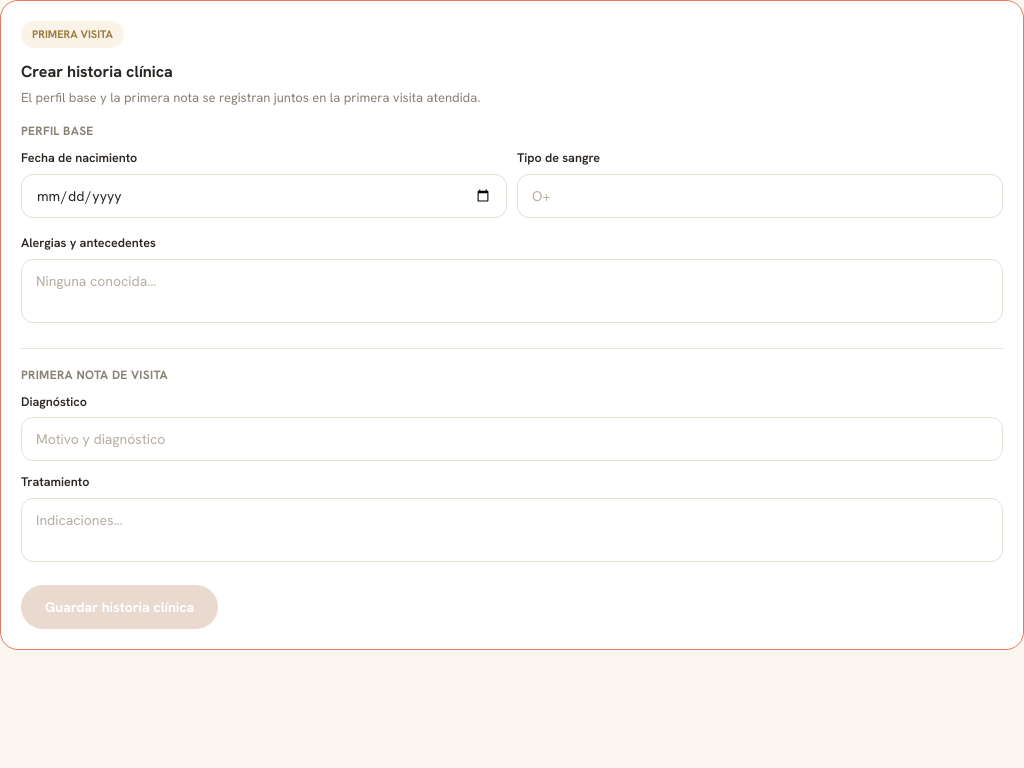
it: FirstVisitForm › disables submit until diagnosis and treatment are filled
Expected: the button "Guardar historia clínica" is disabled, [21,585,218,629]
Step 1. Type "Migraña tensional" into the field labelled "Diagnóstico" → [512, 439], box [21,417,1003,461]
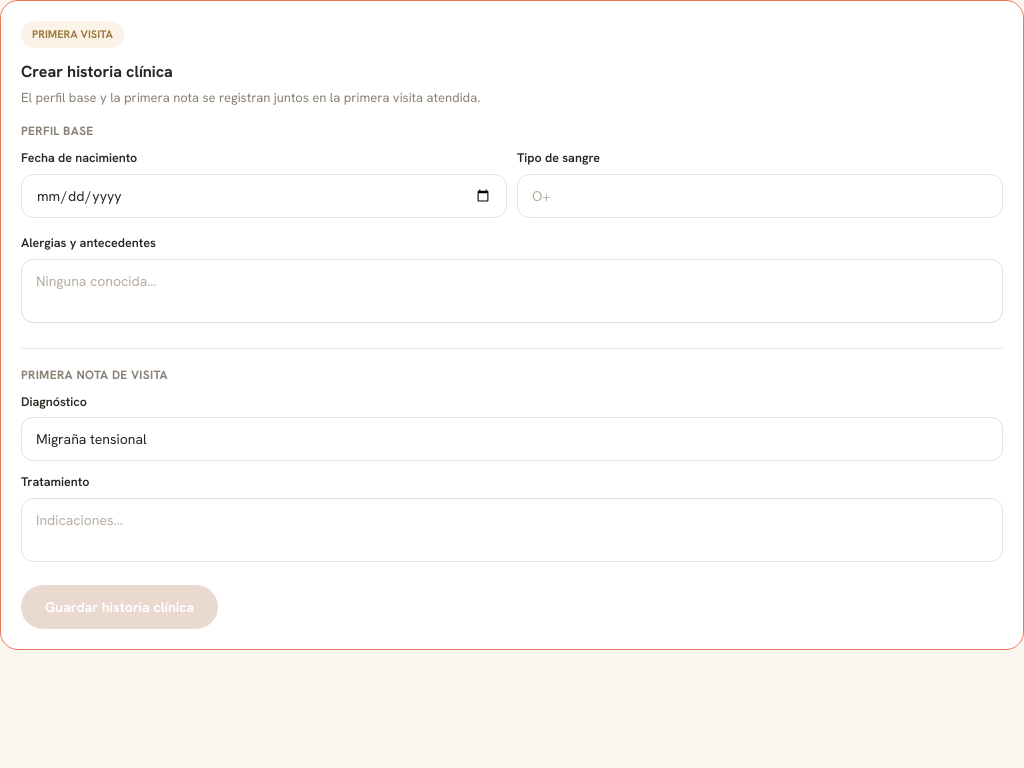
Expected: the button "Guardar historia clínica" is disabled, [21,585,218,629]
Step 2. Type "Reposo" into the text box labelled "Tratamiento" → [512, 530], box [21,498,1003,562]
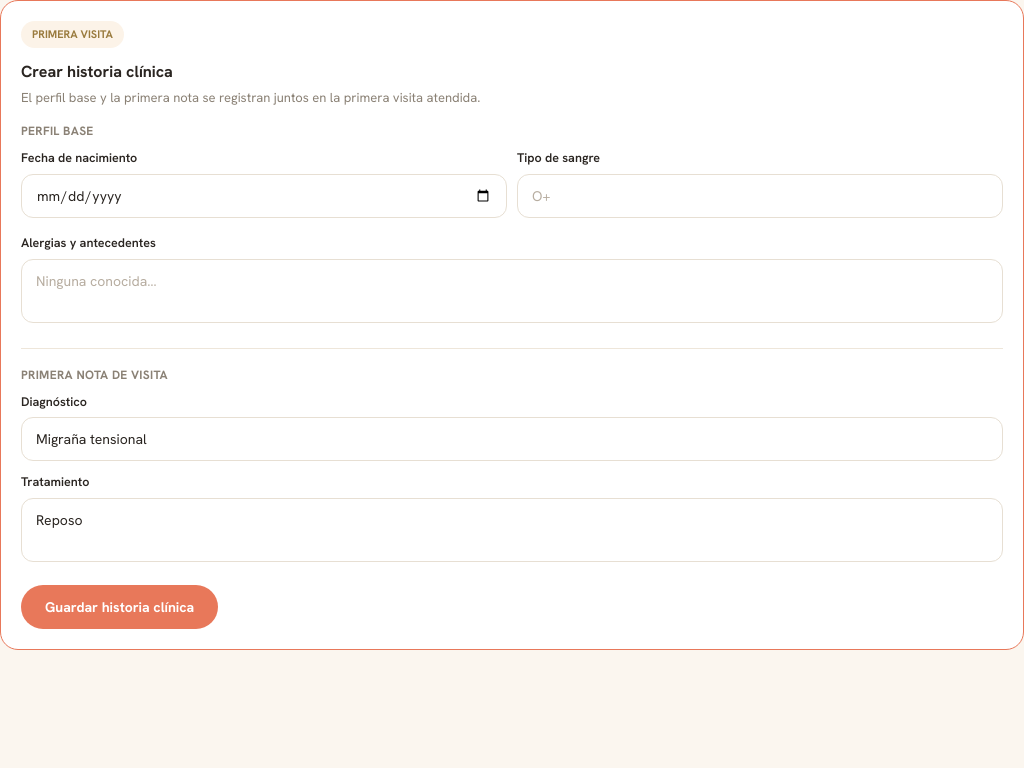
Now the button "Guardar historia clínica" is enabled, box [21,585,218,629]
